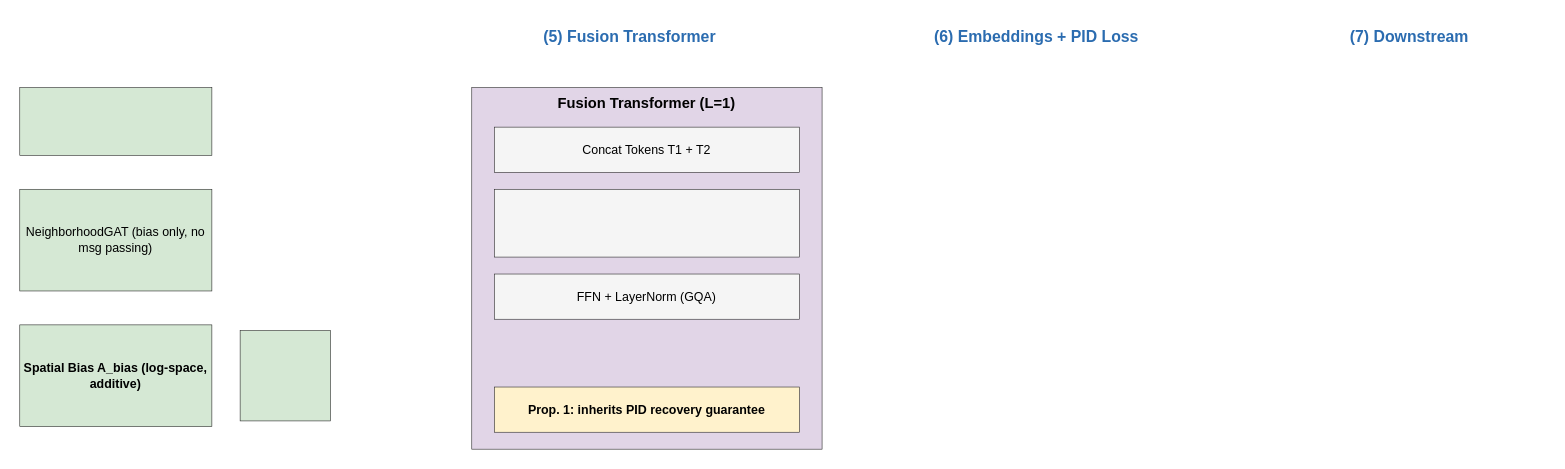
Image size: 1565x469. Some labels were removed from this diagram. Here are the shapes that lost their labels. From the top down, the box of each, then its label:
(19, 87, 212, 155): k-NN Graph (k=16)
(494, 188, 799, 257): Attention: softmax(QK/sqrt(d) + A_bias) V
(239, 330, 330, 421): [A_bias heatmap]
